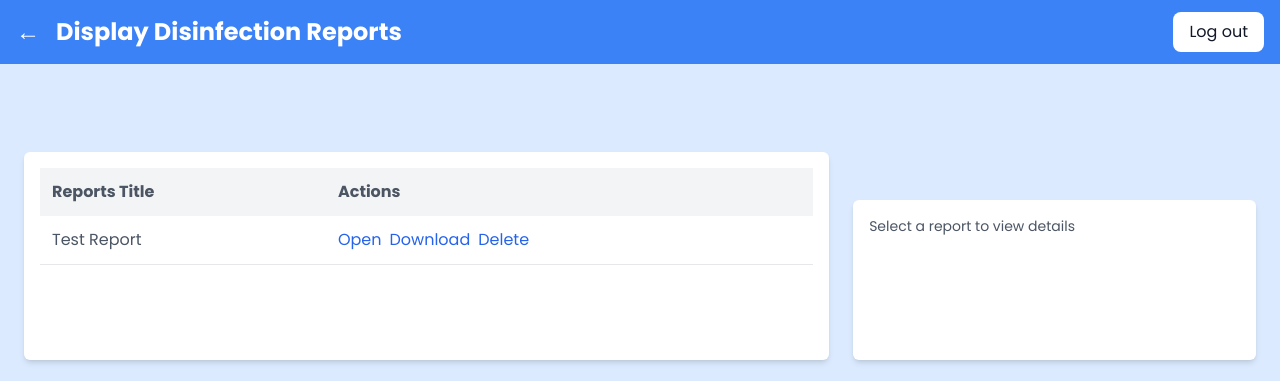
Test: ReportPage Integration › deletes a report and removes it from the list
Expected: the text "Test Report" is shown, [40,216,326,264]
What coordinates should you click on to do the following:
click the text "Delete"
I would click on:
 (504, 240)
Its box is [478,228,529,251].
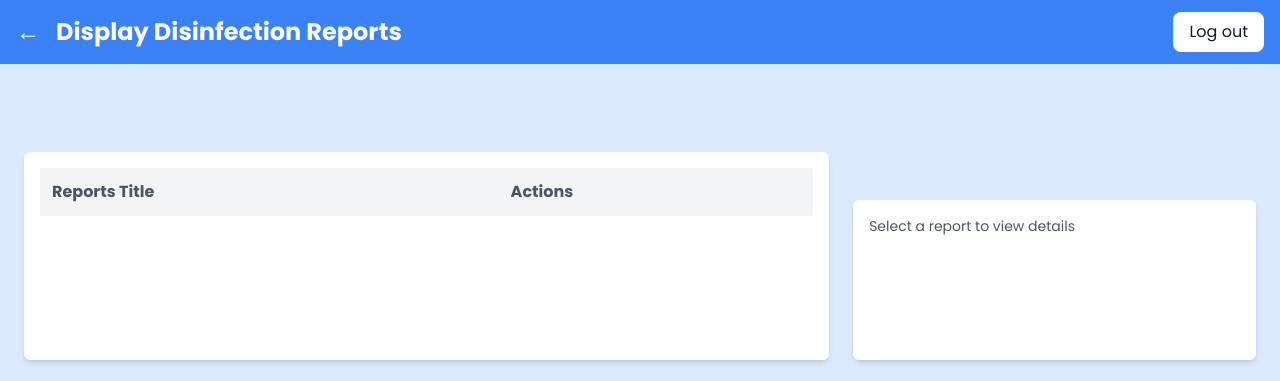
Result: the text "Test Report" is gone
